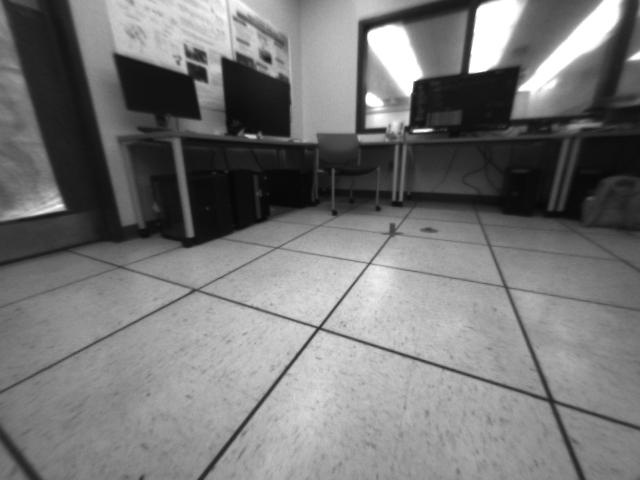X: (380, 221, 405, 239)
